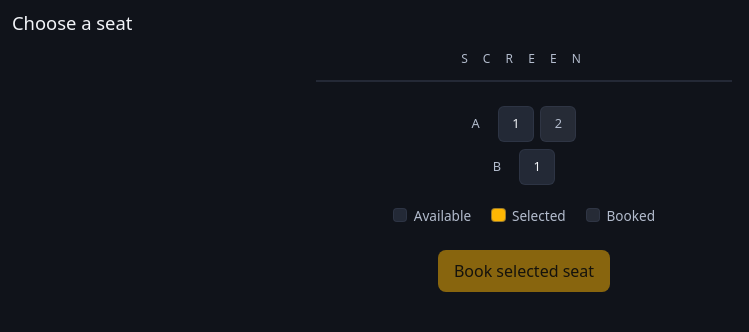
SeatMap › shows the failure message and keeps the selected seat when booking fails
The image size is (749, 332).
Click the button named "row a, seat 1, available" at (516, 124), box [498,106,534,142]
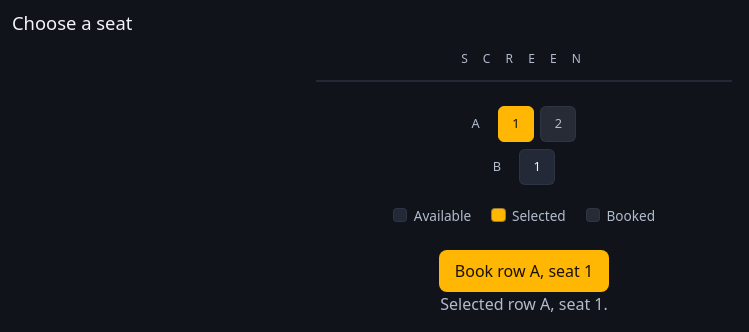
Click the button "Book row A, seat 1" at (524, 271), box [440,250,609,292]
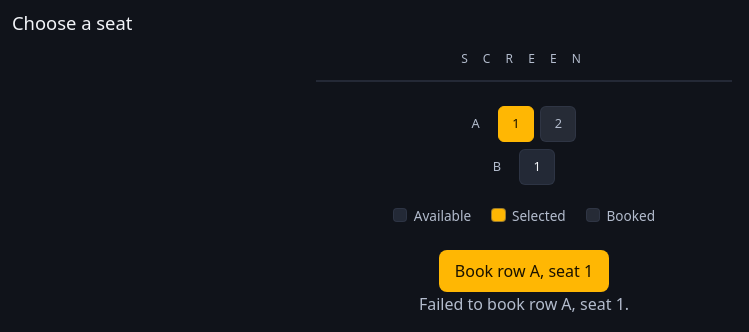
expect the button named "row a, seat 1, selected" is shown: met, box [498,106,534,142]
expect the button "Book row A, seat 1" is shown: met, box [440,250,609,292]
expect the message reads "Failed to book row A, seat 1.": met, box [419,293,629,315]
